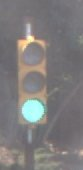Green: (10, 31, 45, 137)
